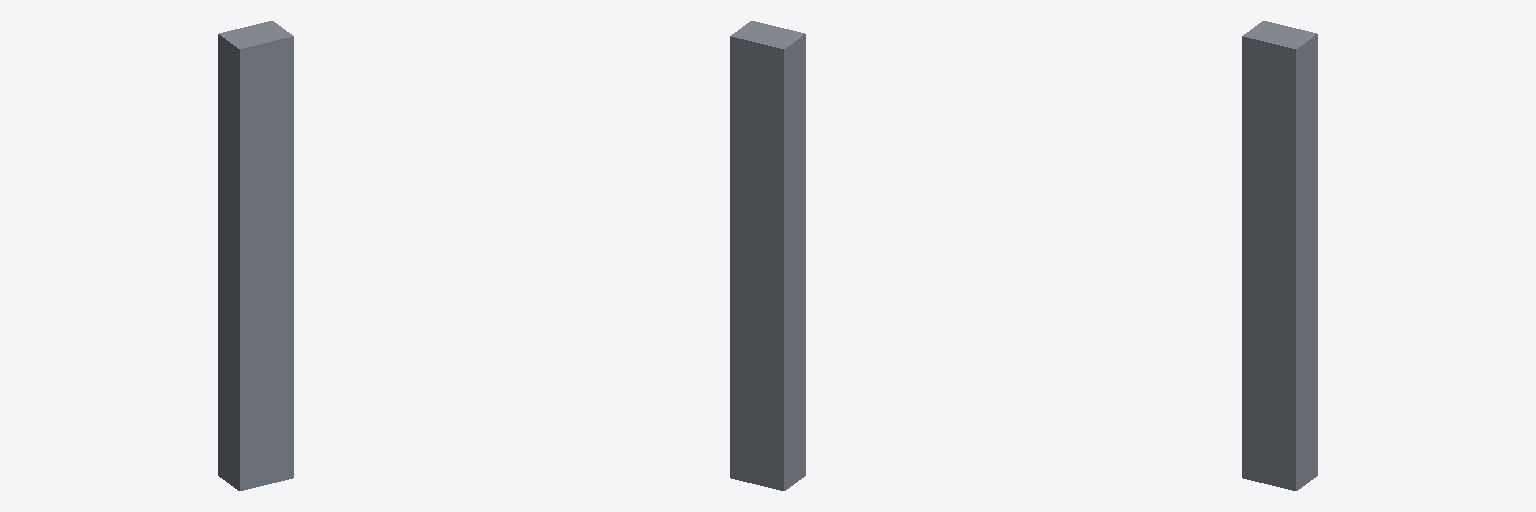
robot.urdf — artmanip_knife_000:
<?xml version='1.0' encoding='utf-8'?>
<robot name="artmanip_knife_000"><link name="link_0"><inertial><mass value="0.031592703653437054" /><inertia ixx="4.874105583717436e-05" iyy="4.9163852248106535e-05" izz="1.175635491153082e-06" ixy="0" ixz="0" iyz="0" /></inertial><visual><geometry><box size="0.01742325519580748 0.011957304970403102 0.13553803631816422" /></geometry><material name="link_0_color"><color rgba=".58 .60 .64 1" /></material></visual><collision><geometry><box size="0.01742325519580748 0.011957304970403102 0.13553803631816422" /></geometry></collision></link><link name="link_1"><inertial><mass value="0.005309727273411173" /><inertia ixx="4.0134825847888666e-07" iyy="4.4247727278426445e-07" izz="4.736644025147512e-08" ixy="0" ixz="0" iyz="0" /></inertial><visual><geometry><mesh filename="slider-shoulder.obj" scale="1 0.8849545455685288 1" /></geometry><material name="link_1_color"><color rgba=".12 .13 .15 1" /></material></visual><collision><geometry><mesh filename="slider-shoulder.obj" scale="1 0.8849545455685288 1" /></geometry></collision></link><joint name="slider" type="prismatic"><parent link="link_0" /><child link="link_1" /><origin xyz="0.0004834138407725846 0.007306084303554344 0.010885142494691778" /><axis xyz="0 0 1" /><limit lower="-0.03267458688196273" upper="0.017325413118037272" effort="100" velocity="1" /><dynamics damping="1000" friction="0.001" /></joint></robot>

--- What the picture shows (computed from the rendered views, not written in the file) ---
Views: 3 orthographic renders of the robot side by side, from view 1: azimuth 30°, elevation 25°; view 2: azimuth 150°, elevation 25°; view 3: azimuth 330°, elevation 25°.
Robot: artmanip_knife_000 — 2 links, 1 joints (1 prismatic); root link link_0; default pose: all joints at 0.
Visible links, largest first — view 1: link_0; view 2: link_0; view 3: link_0.
Link boxes in pixels (x1,y1,x2,y2): link_0: (218,21,293,490); link_0: (730,21,805,490); link_0: (1242,21,1317,490).
Bounding box of the posed robot: 0.0174 × 0.012 × 0.1355 m (x, y, z).
Meshes: 1 distinct files referenced, 0 mesh visuals loaded (none loaded); not drawn: 1 (reference not matched to a file when rendering).
